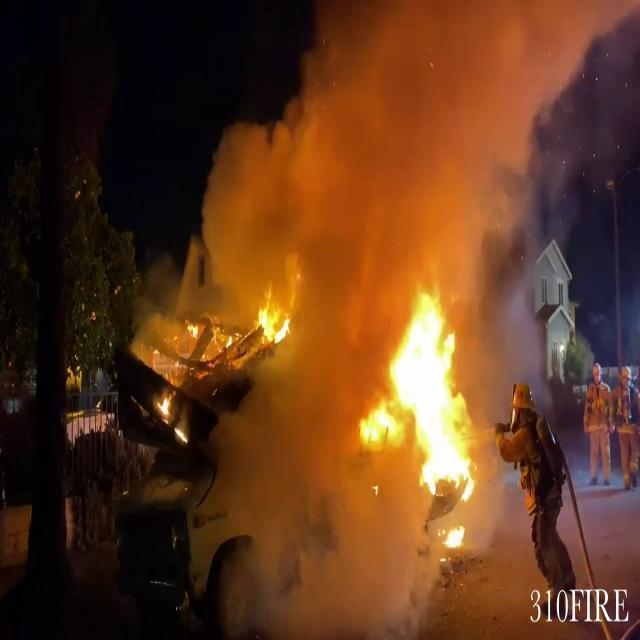Fire: (352, 272, 484, 547), (247, 291, 298, 355)
Smoke: (198, 0, 586, 640)
